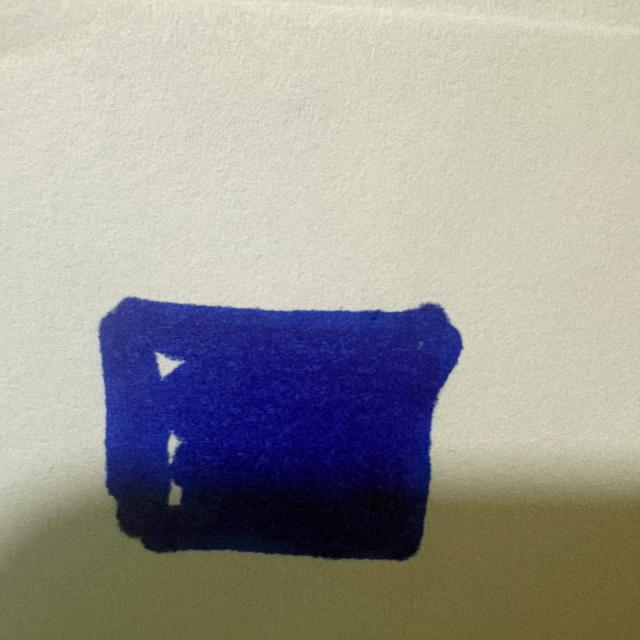Square: (99, 297, 462, 560)
